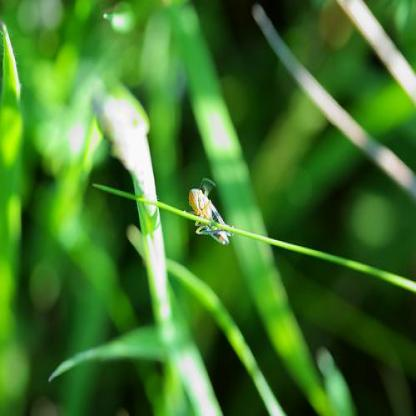Green-Leafhopper: (183, 176, 235, 250)
